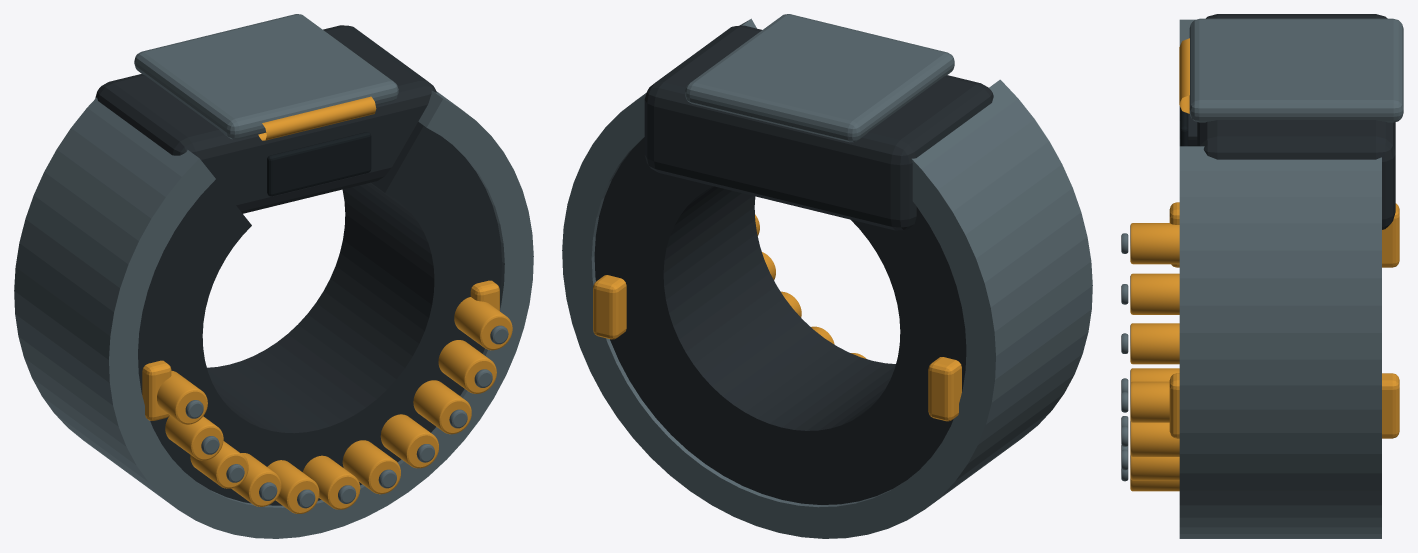
File: autocannon_magazine.glb
3 views of the same model, side by side, from view 1: azimuth 30°, elevation 25°; view 2: azimuth 150°, elevation 25°; view 3: azimuth 270°, elevation 25° (orthographic). The views are drawn at different scales.
Visible parts, largest first — view 1: BeltCassette, SilverBeltCheek, BeltFeedSilverLip, BeltFeedNeck, BeltFeedRecess, VisibleLinkedRound, VisibleLinkedRound.001, VisibleLinkedRound.004, VisibleLinkedRound.002, VisibleLinkedRound.003, AmberFeedWitness, ReleaseLatch.001 (+1 smaller); view 2: BeltCassette, SilverBeltCheek, BeltFeedNeck, BeltFeedSilverLip, ReleaseLatch.001; view 3: SilverBeltCheek, BeltFeedSilverLip, BeltFeedNeck, VisibleLinkedRound, VisibleLinkedRound.001, VisibleLinkedRound.002, ReleaseLatch.001, VisibleLinkedRound.003, AmberFeedWitness.
Boxes of the visible parts, box(x1,y1,x2,y2) form: BeltCassette: box(138, 121, 501, 505); SilverBeltCheek: box(14, 90, 533, 538); BeltFeedSilverLip: box(134, 14, 398, 139); BeltFeedNeck: box(95, 25, 436, 213); BeltFeedRecess: box(267, 132, 371, 196); VisibleLinkedRound: box(157, 297, 512, 424); VisibleLinkedRound.001: box(165, 340, 496, 460); VisibleLinkedRound.004: box(267, 440, 400, 513); VisibleLinkedRound.002: box(190, 380, 471, 488); VisibleLinkedRound.003: box(231, 414, 438, 506); AmberFeedWitness: box(258, 96, 376, 140); ReleaseLatch.001: box(142, 280, 499, 420); BeltCassette: box(594, 137, 966, 504); SilverBeltCheek: box(562, 18, 1092, 538); BeltFeedNeck: box(644, 25, 993, 230); BeltFeedSilverLip: box(685, 14, 954, 142); ReleaseLatch.001: box(593, 275, 961, 421); SilverBeltCheek: box(1179, 19, 1381, 538); BeltFeedSilverLip: box(1189, 18, 1403, 122); BeltFeedNeck: box(1197, 14, 1395, 229); VisibleLinkedRound: box(1130, 223, 1179, 422); VisibleLinkedRound.001: box(1130, 273, 1179, 456); VisibleLinkedRound.002: box(1130, 323, 1179, 480); ReleaseLatch.001: box(1169, 202, 1399, 438); VisibleLinkedRound.003: box(1130, 368, 1179, 491); AmberFeedWitness: box(1179, 38, 1189, 113).
Bounding box in the file's own units: 1.32 × 1.26 × 0.712.
